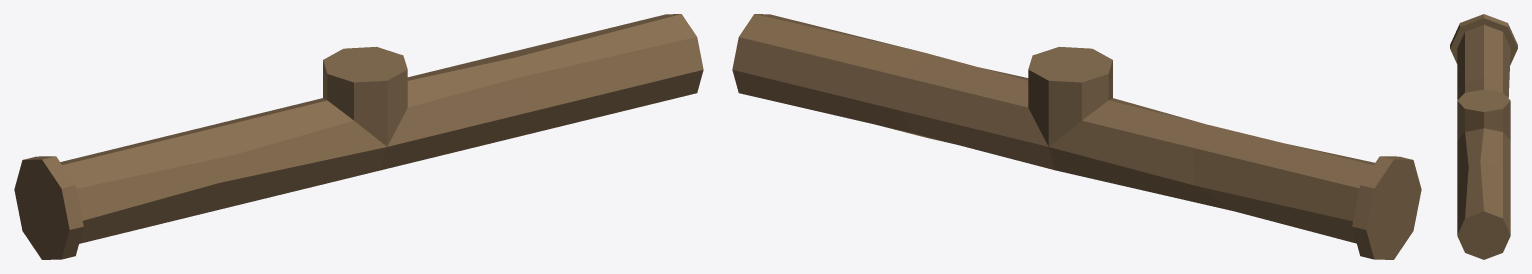
Rendered from SM_Prop_Pipe_01_T_01.fbx.
3 renders of one model, left to right at view 1: azimuth 30°, elevation 25°; view 2: azimuth 150°, elevation 25°; view 3: azimuth 270°, elevation 25°, orthographic. The views are drawn at different scales.
Visible parts, largest first — view 1: SM_Prop_Pipe_01_T_01; view 2: SM_Prop_Pipe_01_T_01; view 3: SM_Prop_Pipe_01_T_01.
Part boxes in pixels (<box>): SM_Prop_Pipe_01_T_01: <box>14,14,703,259</box>; SM_Prop_Pipe_01_T_01: <box>732,14,1421,259</box>; SM_Prop_Pipe_01_T_01: <box>1450,14,1517,259</box>.
Bounding box in the file's own units: 253 × 43.95 × 37.9.
